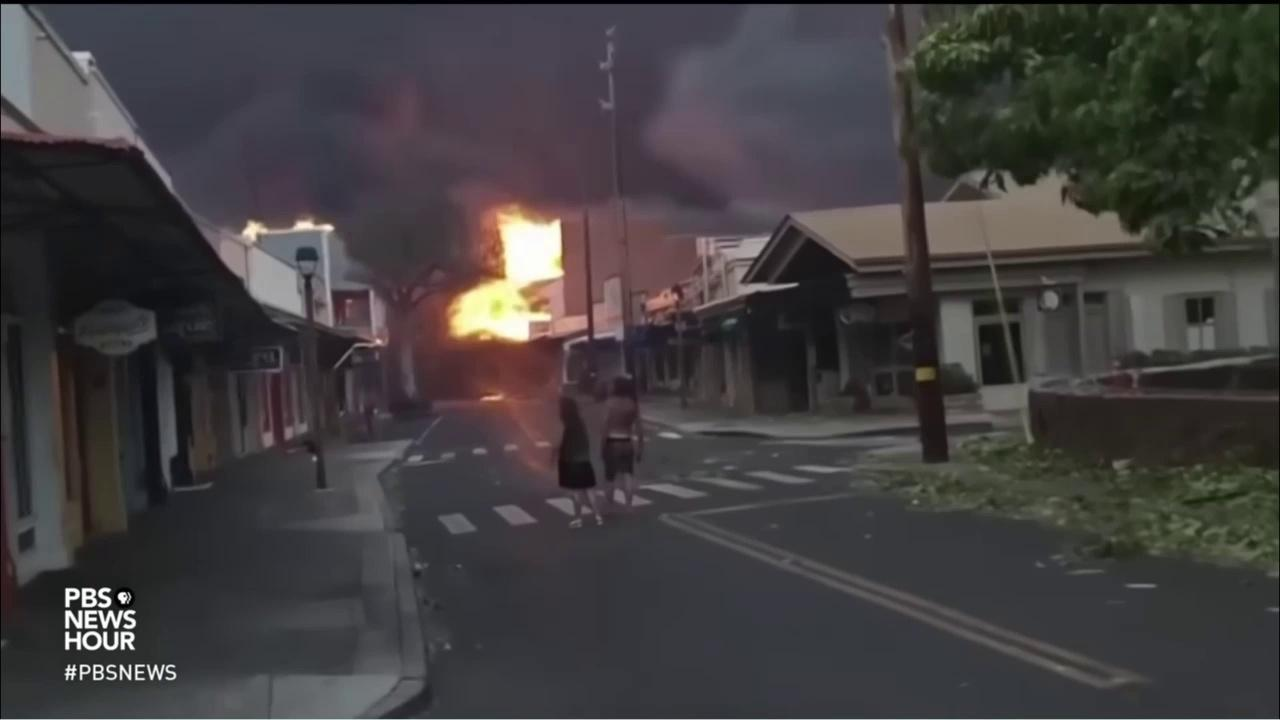fire: (443, 205, 565, 342)
smoke: (30, 5, 930, 395)
